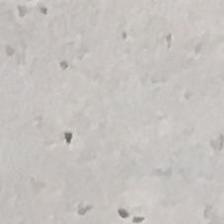Non_Crack: (23, 19, 218, 191)
